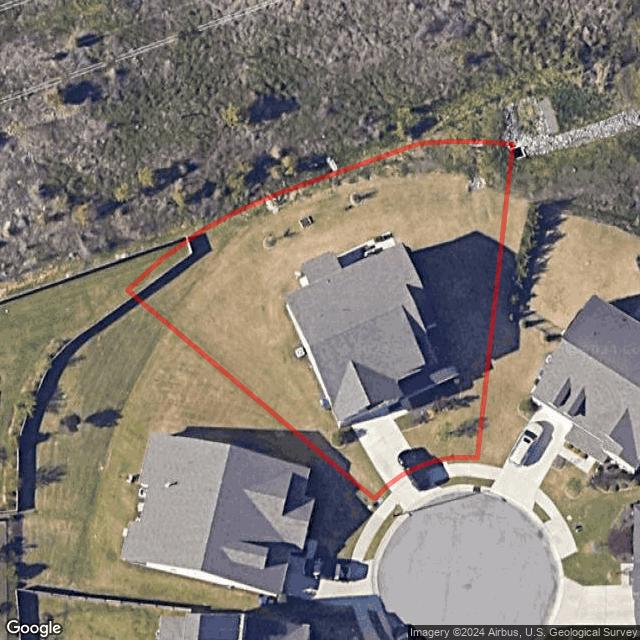Driveway: (349, 409, 421, 487)
Extra-Driveway: (387, 466, 445, 512)
Extra-Lawn: (421, 457, 480, 472), (435, 477, 480, 488), (373, 487, 391, 506), (389, 503, 405, 522)
Extra-Sidewalk: (427, 463, 480, 482), (381, 493, 398, 516), (441, 484, 480, 492), (393, 513, 409, 528)
Lawn: (128, 142, 514, 499)
Other: (393, 379, 461, 431), (332, 424, 356, 450)
Sidewalk: (388, 403, 408, 419)
